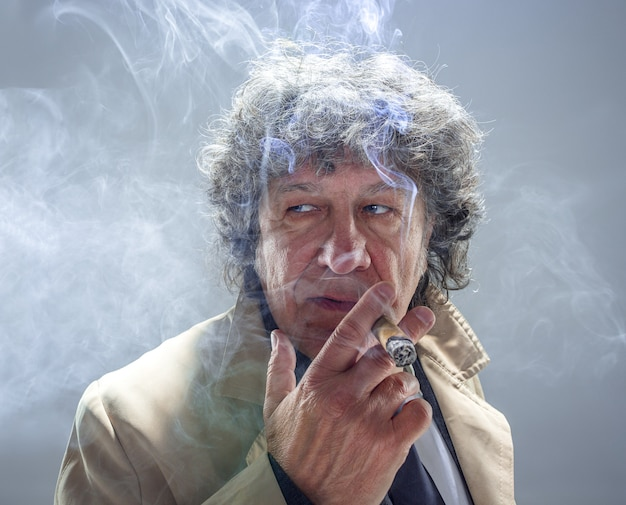cigarette: (370, 312, 417, 368)
